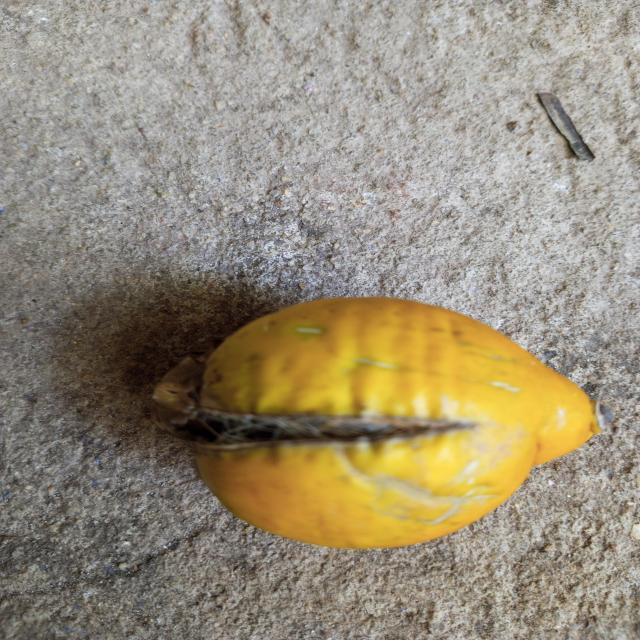damaged: (152, 297, 602, 554)
